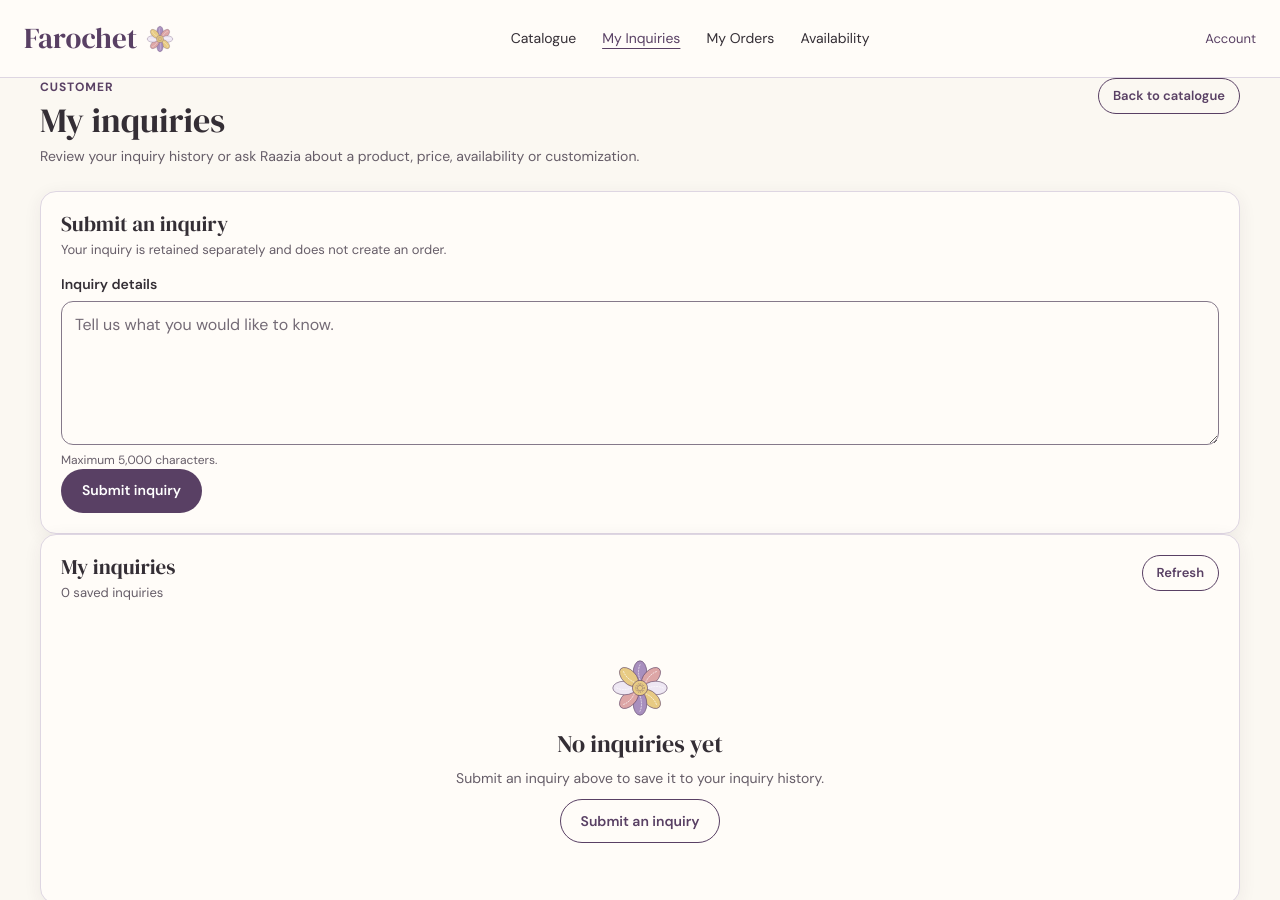
Test: CustomerInquiryPage › renders the empty history state and submits a general inquiry
This screenshot has width=1280, height=900.
expect the heading "No inquiries yet" is shown: met, box [557,730,723,758]
Type "Do you make custom bouquets?" into the text box labelled "Inquiry details" at point(640, 373), box [61,301,1219,445]
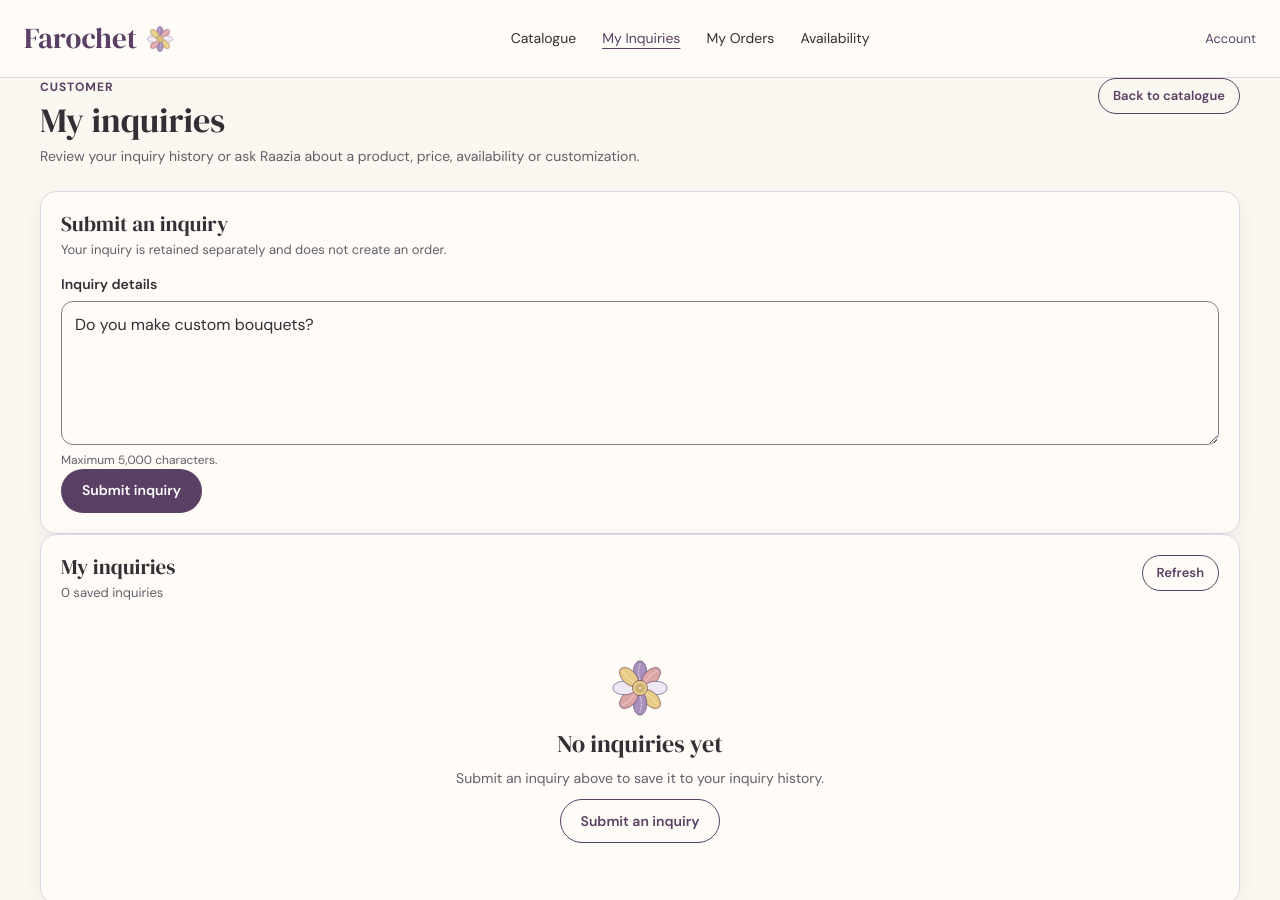
Click the button "Submit inquiry" at point(132, 491), box [61,469,202,513]
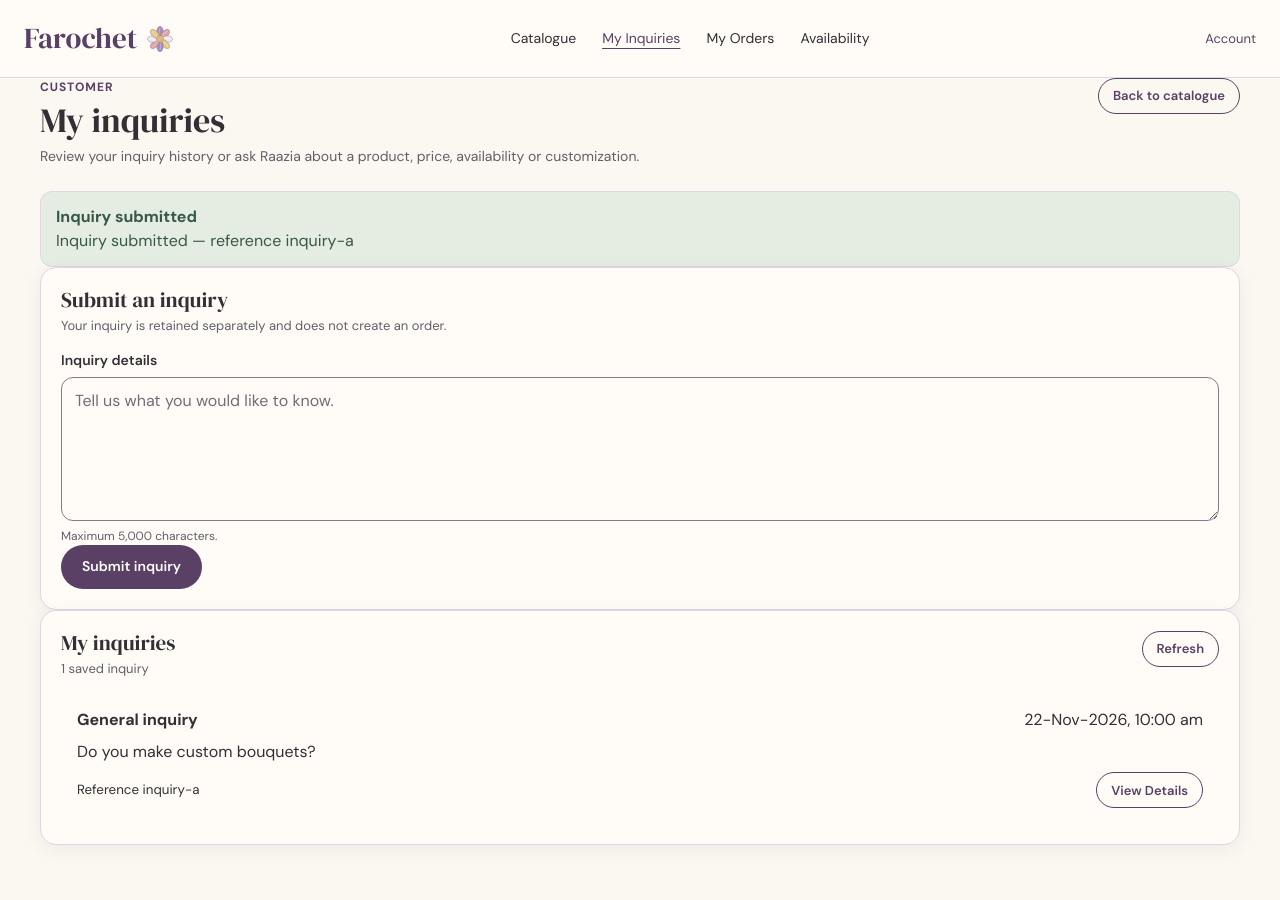
expect the text "Inquiry submitted" is shown: met, box [56,206,197,227]
expect the text "Do you make custom bouquets?" is shown once: met, box [77,741,316,762]
